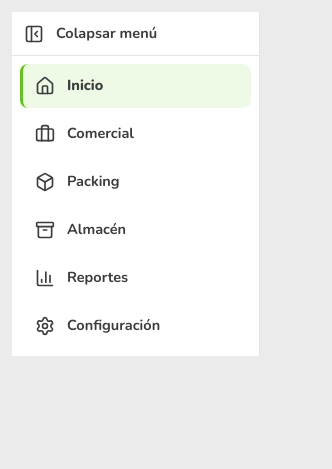
Test: Sidebar › H1-E3: al elegir "Comercial" se despliega su grupo con "Órdenes" y "Clientes"
Click the link "Comercial" at coordinates (84, 134), box [35, 123, 134, 144]
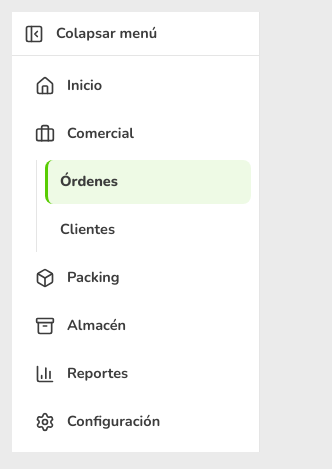
Expected: the link "Órdenes" is shown, [45, 160, 251, 204]
Expected: the link "Clientes" is shown, [60, 219, 115, 239]
